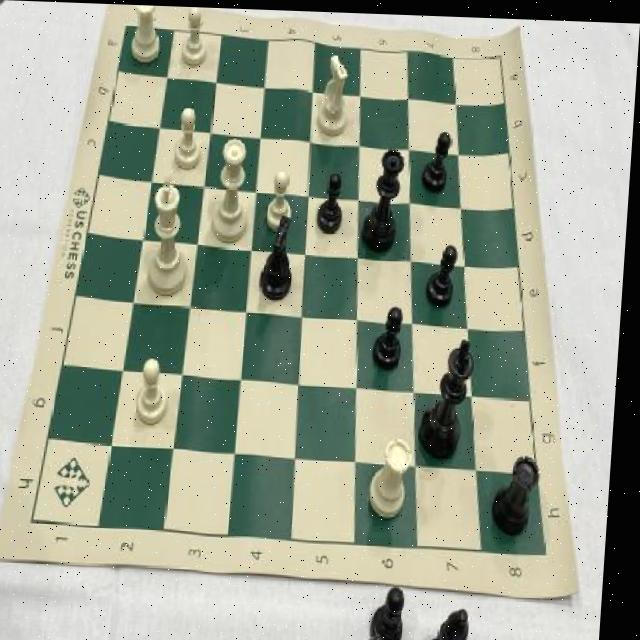black-bishop: (424, 333, 485, 461)
black-king: (259, 214, 303, 302)
black-knight: (426, 239, 465, 308), (375, 299, 412, 369), (317, 167, 352, 236), (423, 125, 456, 191)
black-pawn: (361, 140, 411, 255)
black-queen: (499, 445, 547, 535)
white-bishop: (145, 171, 197, 297)
white-king: (316, 48, 353, 137)
white-knight: (136, 355, 177, 429), (173, 102, 209, 170), (264, 165, 299, 230), (178, 5, 210, 66)
white-pawn: (209, 134, 260, 245)
white-queen: (372, 429, 419, 519), (126, 4, 168, 68)
